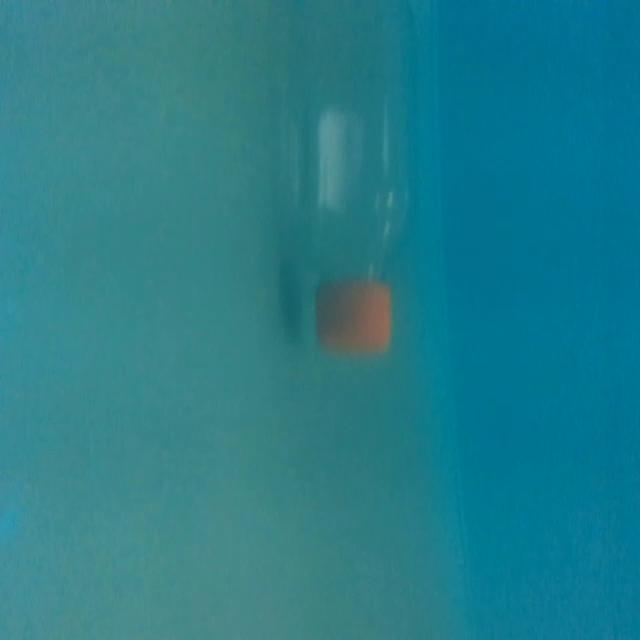plastic bottle: (275, 9, 427, 364)
